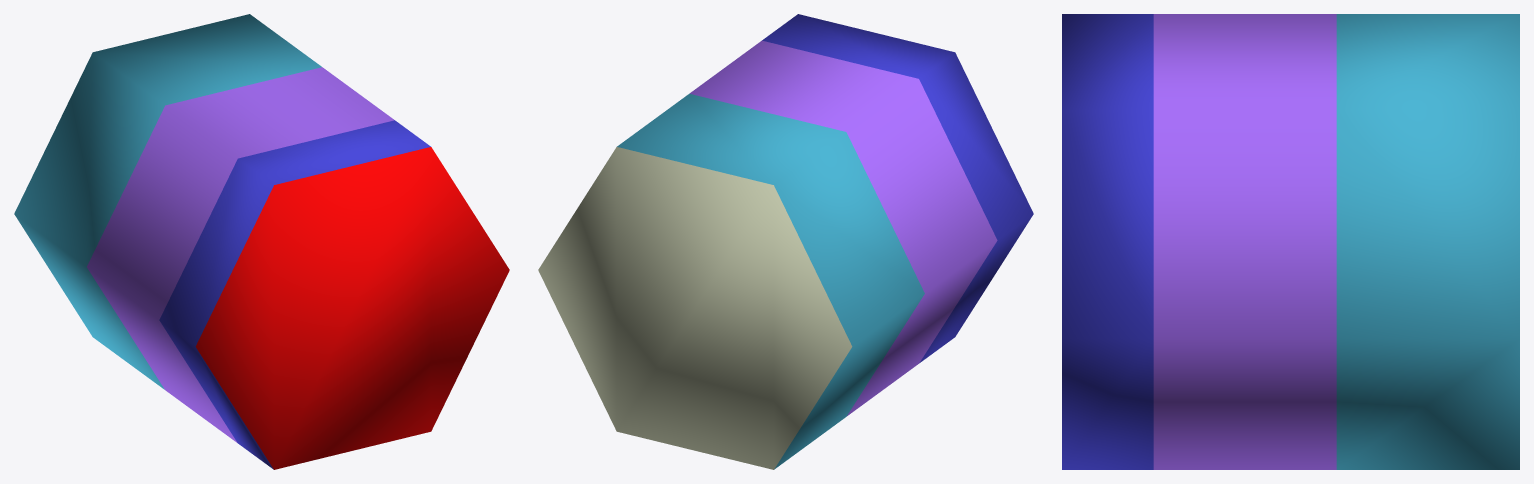
The model's file is simple_human_rotated_color.obj.
3 renders of one model, left to right at view 1: azimuth 30°, elevation 25°; view 2: azimuth 150°, elevation 25°; view 3: azimuth 270°, elevation 25°, orthographic. The views are drawn at different scales.
Parts seen in each view (by area): view 1: Cylinder1_Top_face, Cylinder1_Feet_face, Cylinder1_Body_face, Cylinder1_Head_face; view 2: Cylinder1_default, Cylinder1_Body_face, Cylinder1_Feet_face, Cylinder1_Head_face; view 3: Cylinder1_Body_face, Cylinder1_Feet_face, Cylinder1_Head_face.
Boxes of the visible parts, x1,y1,x2,y2 form: Cylinder1_Top_face: (195,147,509,469); Cylinder1_Feet_face: (14,14,321,389); Cylinder1_Body_face: (87,67,394,442); Cylinder1_Head_face: (159,120,430,469); Cylinder1_default: (538,147,852,469); Cylinder1_Body_face: (690,40,997,415); Cylinder1_Feet_face: (617,93,924,469); Cylinder1_Head_face: (762,14,1033,363); Cylinder1_Body_face: (1153,14,1336,469); Cylinder1_Feet_face: (1336,14,1519,469); Cylinder1_Head_face: (1062,14,1153,469).
Size of the model in its own units: 1 by 0.866 by 1.
